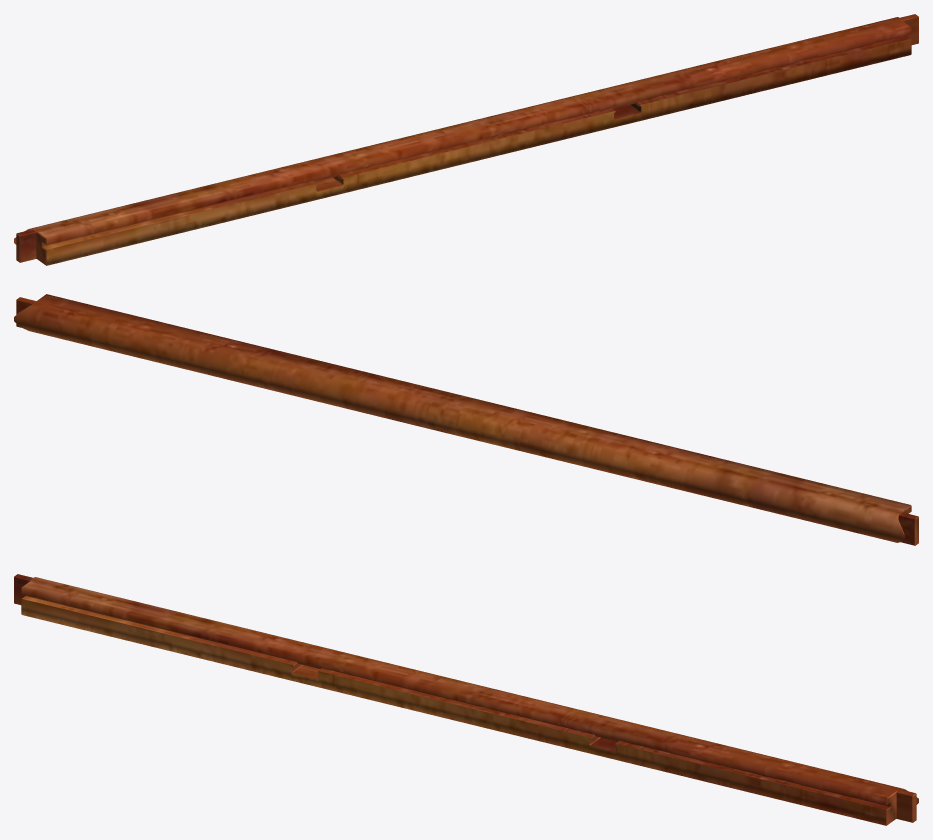
Rendered from SJ_J_dgdb_2_01.FBX.
3 renders of one model, top to bottom at view 1: azimuth 30°, elevation 25°; view 2: azimuth 150°, elevation 25°; view 3: azimuth 330°, elevation 25°, orthographic.
Parts seen in each view (by area): view 1: SJ_J_dgdb_2_01; view 2: SJ_J_dgdb_2_01; view 3: SJ_J_dgdb_2_01.
Part boxes in pixels (x1,y1,x2,y2): SJ_J_dgdb_2_01: [14, 14, 918, 265]; SJ_J_dgdb_2_01: [14, 294, 918, 545]; SJ_J_dgdb_2_01: [14, 574, 918, 825].
Size of the model in its own units: 103 by 3 by 3.94.
